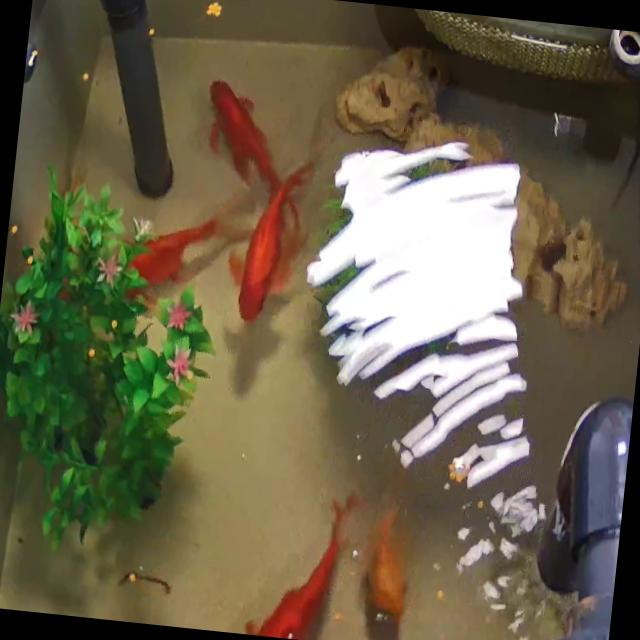fish: (201, 144, 333, 356), (176, 58, 309, 200), (336, 476, 449, 640), (234, 497, 363, 640), (82, 204, 216, 298)
